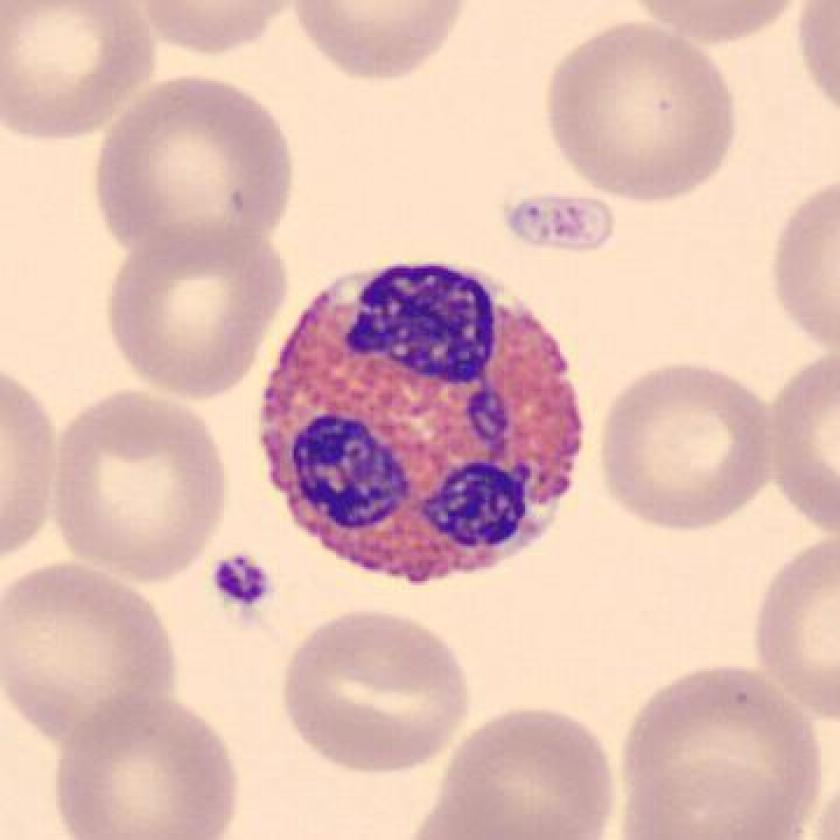eosinophil: (251, 251, 601, 600)
